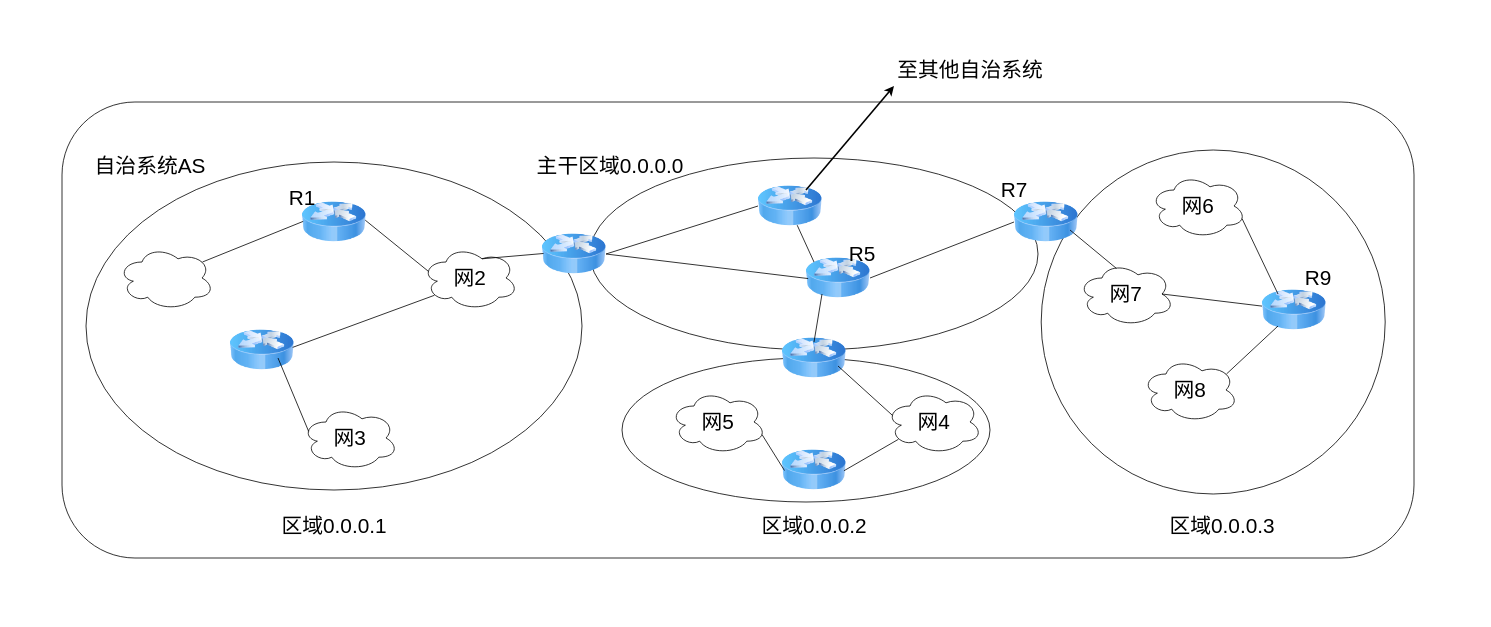
The diagram is 1491 pixels wide and 627 high, and some of its shapes have lost their labels. Each missing label, with the box of its shape:
R2: (230, 318, 294, 382)
R3: (542, 222, 606, 286)
R4: (782, 326, 846, 390)
R6: (758, 174, 822, 238)
R8: (782, 438, 846, 502)
网1: (117, 245, 214, 310)
